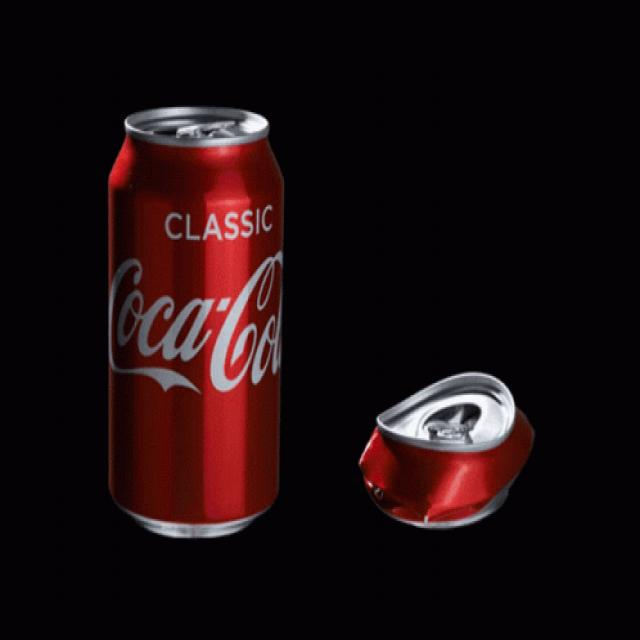non-organic waste: (104, 103, 297, 542), (362, 354, 538, 527)
